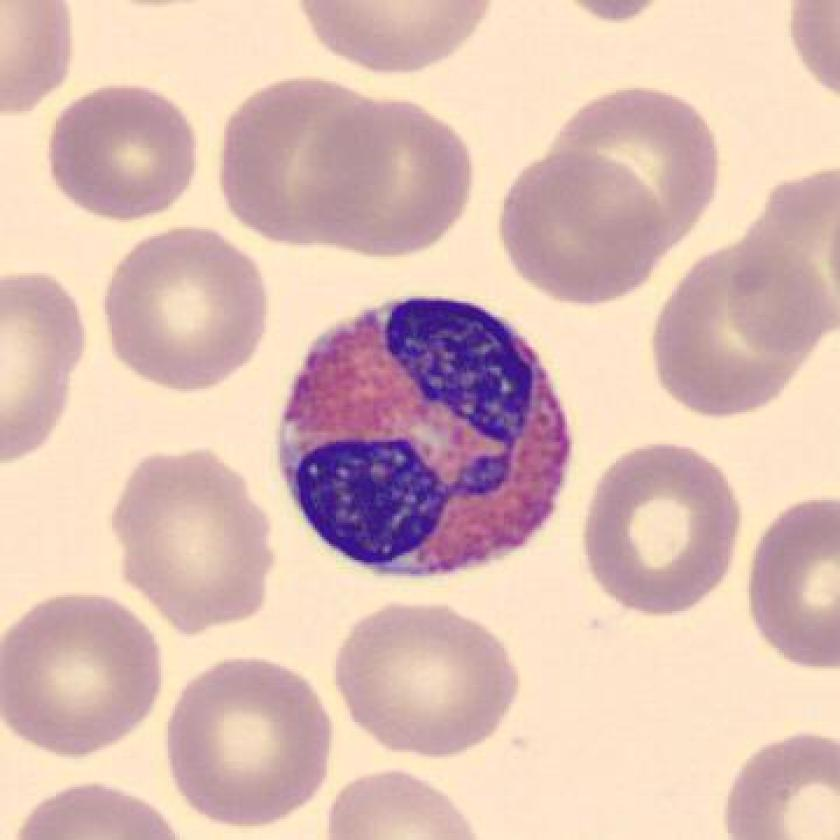eosinophil: (265, 286, 587, 594)
